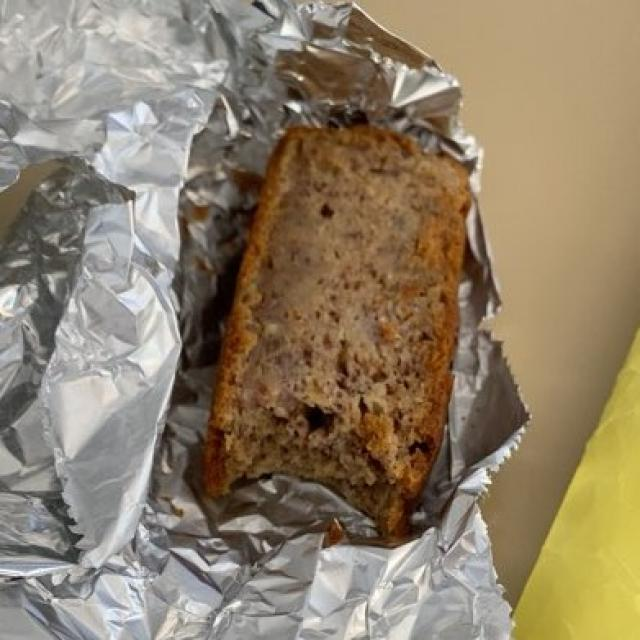banana-cake: (209, 116, 469, 534)
